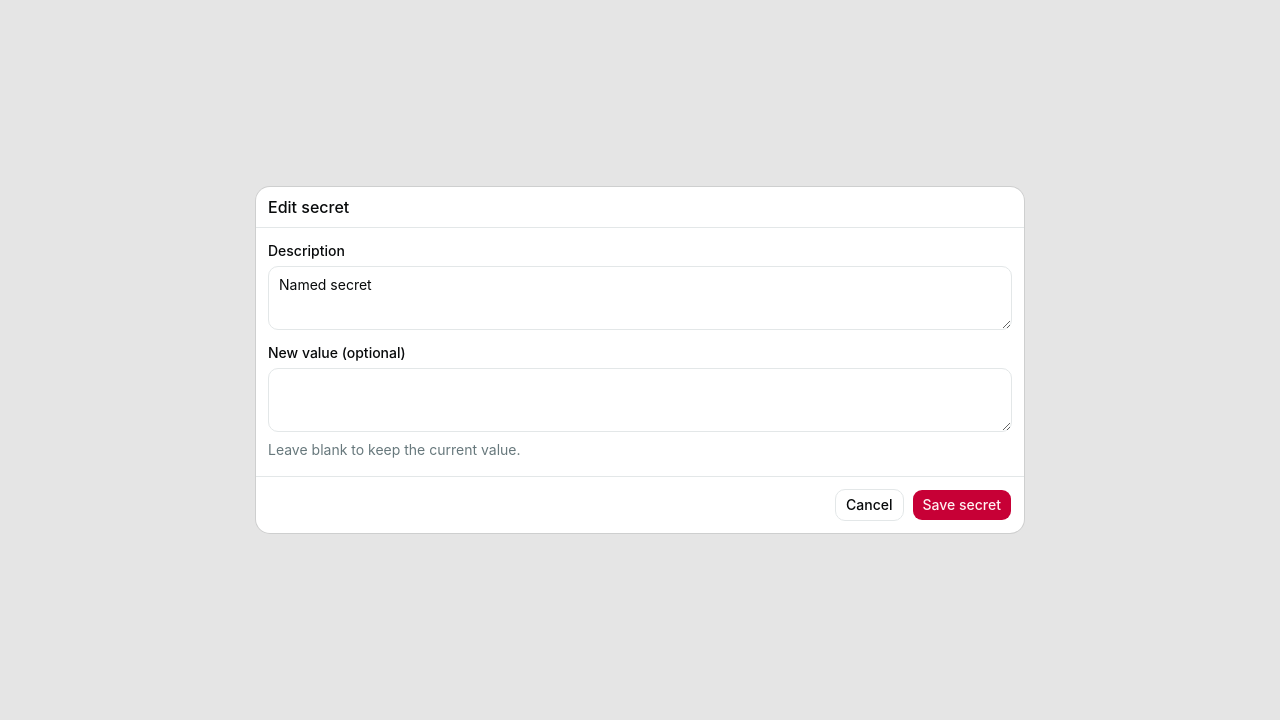
Test: secret resource dialog ownership › submits the edit form through its explicit dialog footer
The image size is (1280, 720).
Replace the text in the text box with id "session-secret-description" with "Saved name" at coordinates (640, 298), box [268, 266, 1012, 330]
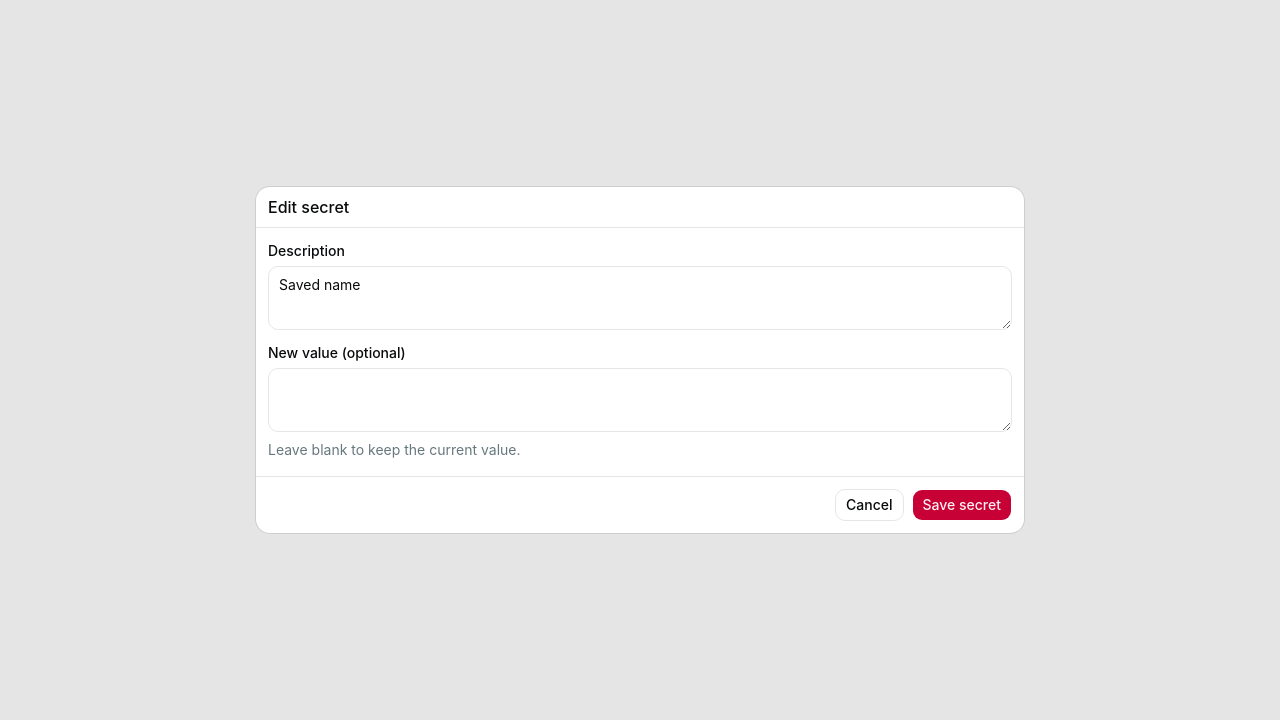
Click the button "Save secret".
click(962, 505)  # box [912, 489, 1012, 521]
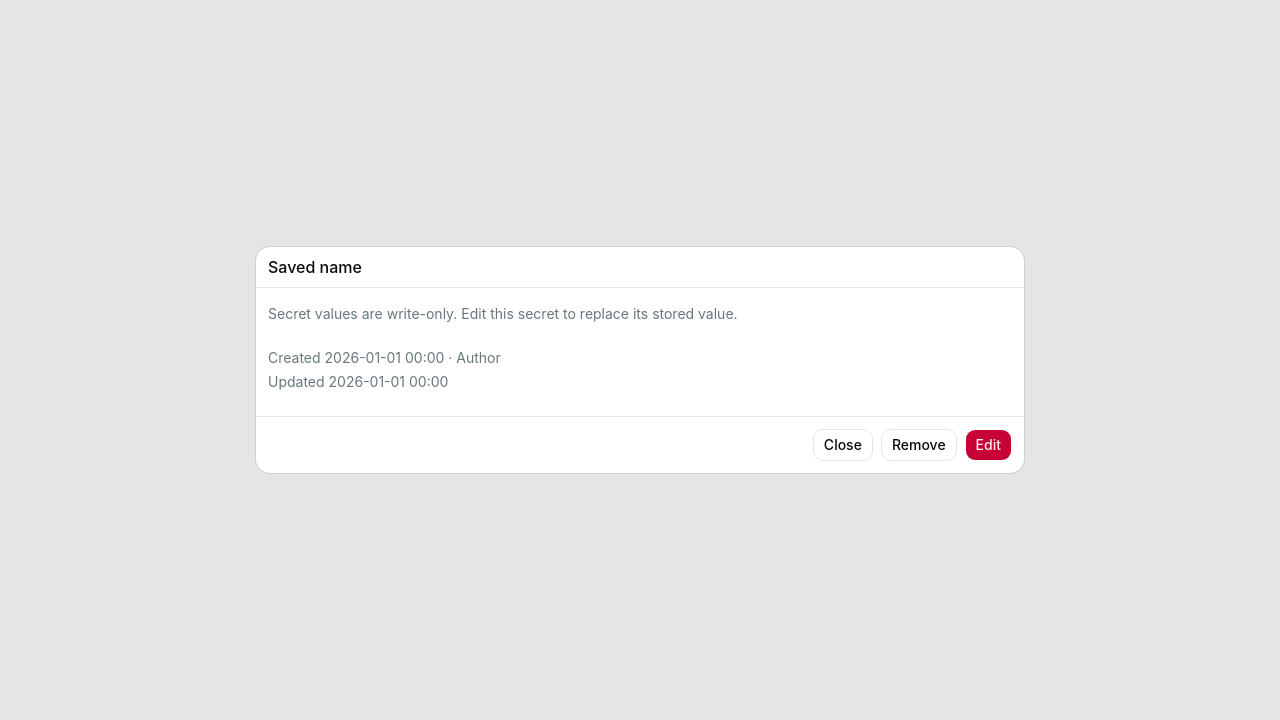
Now the heading "Saved name" is shown, box [268, 257, 362, 277]
